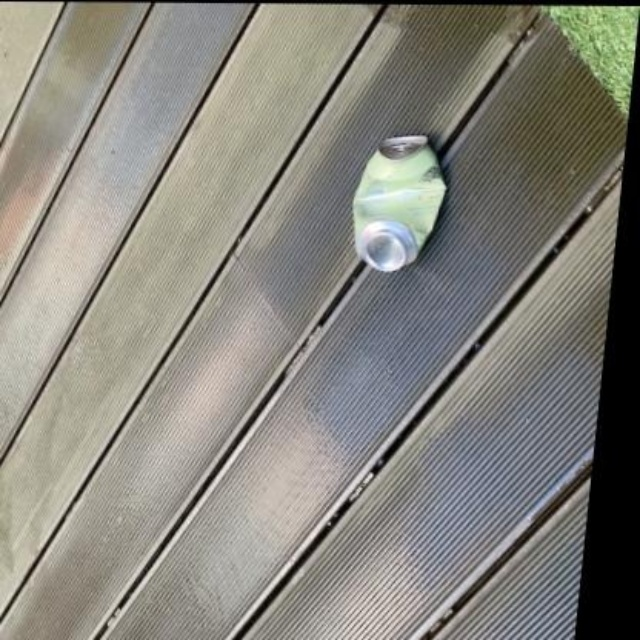trash: (354, 135, 445, 271)
